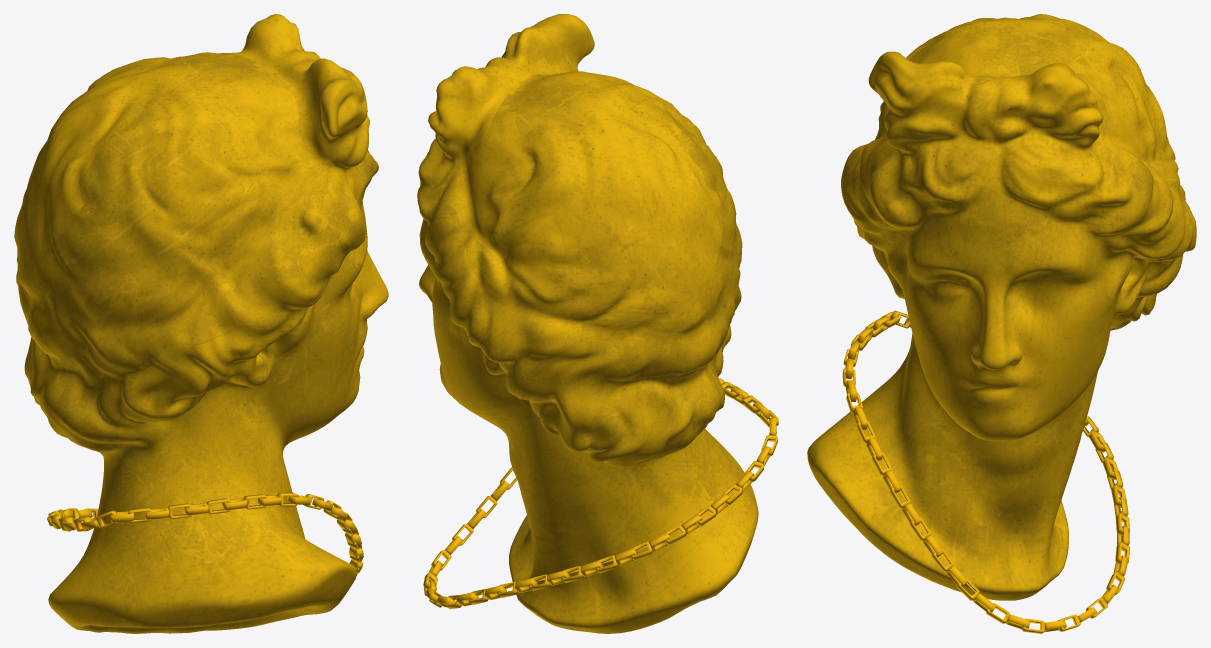
File: 3d Only Head Daniel Ouro.glb
3 renders of one model, left to right at view 1: azimuth 30°, elevation 25°; view 2: azimuth 150°, elevation 25°; view 3: azimuth 270°, elevation 25°, orthographic. The views are drawn at different scales.
Visible parts, largest first — view 1: Estatue_Retopo.001, corrente_Cartier.001; view 2: Estatue_Retopo.001, corrente_Cartier.001; view 3: Estatue_Retopo.001, corrente_Cartier.001.
Boxes of the visible parts, x1=… form: Estatue_Retopo.001: x1=14, y1=14, x2=388, y2=633; corrente_Cartier.001: x1=47, y1=492, x2=363, y2=575; Estatue_Retopo.001: x1=417, y1=14, x2=758, y2=633; corrente_Cartier.001: x1=423, y1=378, x2=778, y2=608; Estatue_Retopo.001: x1=807, y1=14, x2=1196, y2=600; corrente_Cartier.001: x1=842, y1=310, x2=1129, y2=633.
Size of the model in its own units: 1.7 by 2.78 by 1.74.
2 materials, 1 textured.
